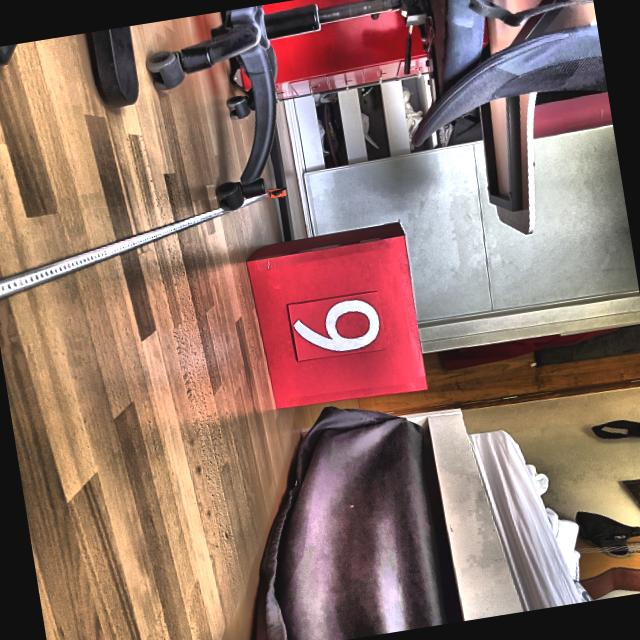nine: (288, 294, 383, 360)
red box: (245, 221, 430, 414)
